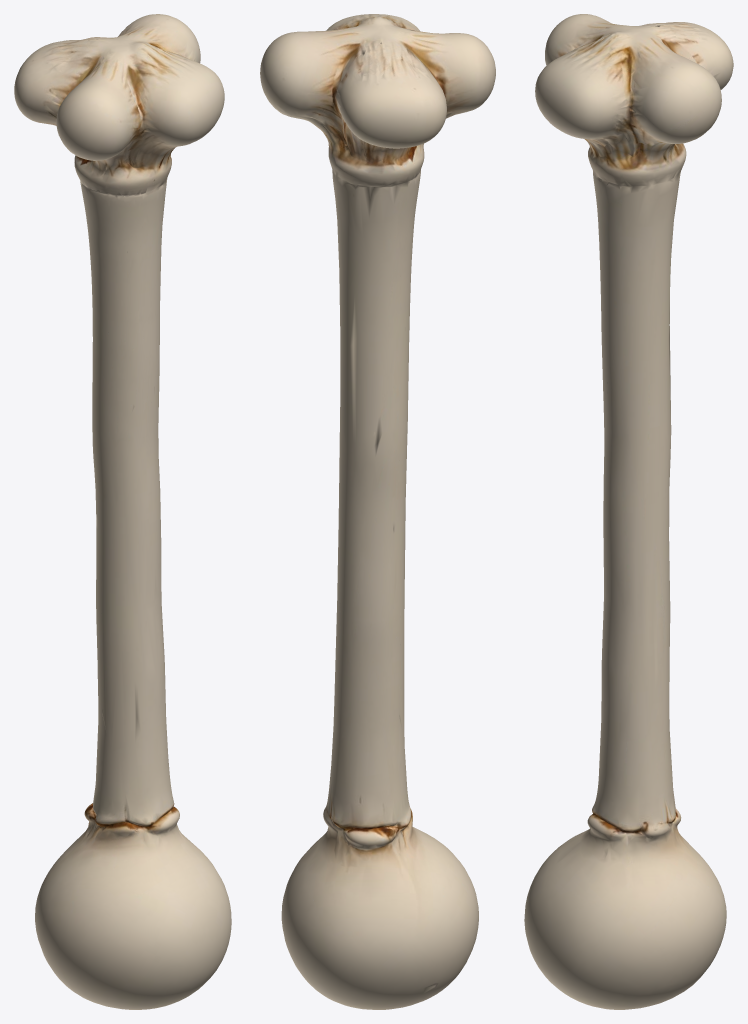
The model's file is humerus.glb.
The picture shows the model from 3 angles, left to right: view 1: azimuth 30°, elevation 25°; view 2: azimuth 150°, elevation 25°; view 3: azimuth 270°, elevation 25°; orthographic projection. The views are drawn at different scales.
Visible parts, largest first — view 1: humerus; view 2: humerus; view 3: humerus.
Part boxes in pixels (bbox=[...]): humerus: bbox=[14, 14, 231, 1009]; humerus: bbox=[260, 14, 495, 1009]; humerus: bbox=[524, 14, 733, 1009].
Bounding box in the file's own units: 0.1939 × 1 × 0.1961.
Materials: 1 (1 with a texture image).
